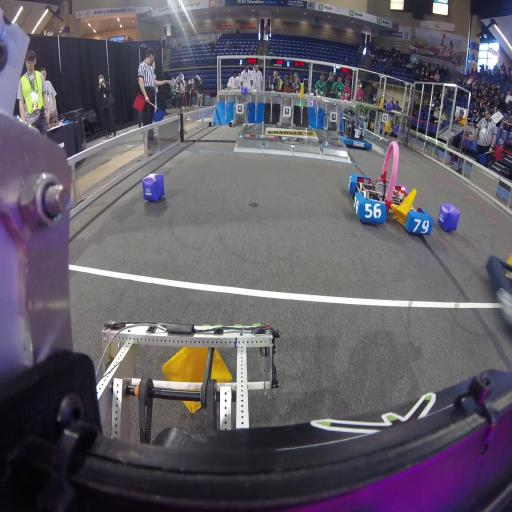robot: (351, 169, 433, 233), (348, 124, 373, 150)
